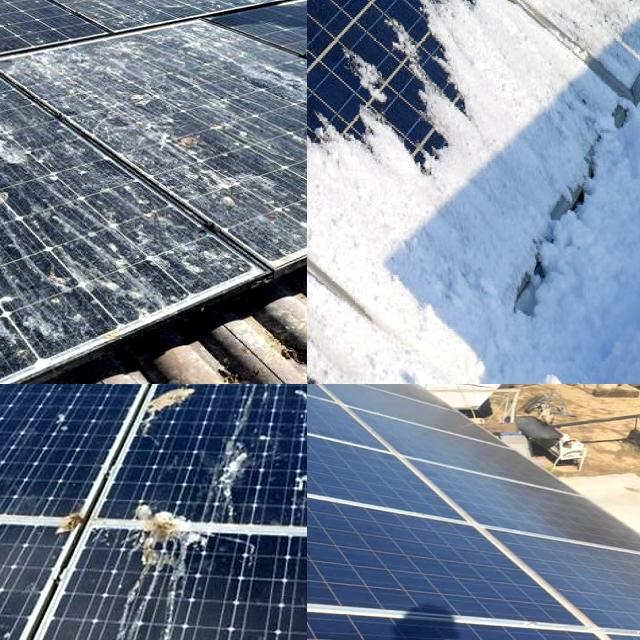bird: (124, 489, 225, 594), (38, 232, 157, 304), (70, 88, 192, 145), (0, 251, 55, 361), (0, 540, 58, 640), (112, 384, 213, 435), (34, 384, 99, 438), (189, 384, 274, 414), (0, 117, 45, 172), (284, 456, 307, 532), (50, 509, 100, 542), (276, 84, 307, 134), (239, 384, 289, 414), (0, 384, 42, 417)
crack: (307, 454, 609, 640), (307, 384, 523, 544), (404, 449, 640, 574), (461, 517, 640, 640), (307, 384, 470, 459), (307, 384, 458, 442)
panel: (307, 43, 440, 234), (307, 279, 485, 384), (307, 80, 449, 202), (307, 143, 393, 308), (307, 212, 383, 384), (360, 0, 498, 75), (487, 112, 572, 189), (427, 0, 534, 46), (307, 304, 365, 384), (307, 104, 374, 171), (570, 265, 628, 327), (399, 0, 498, 36), (515, 333, 604, 373), (578, 0, 640, 56), (513, 0, 593, 42), (307, 15, 352, 87), (467, 200, 515, 266)
